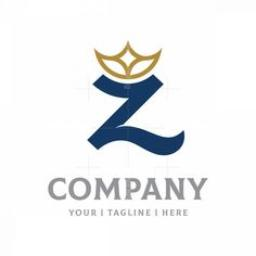z: (86, 74, 190, 158)
